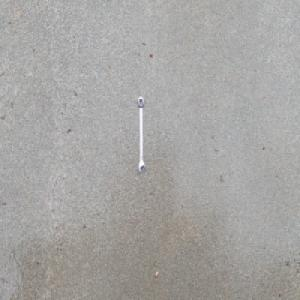Wrench: (136, 94, 145, 174)
